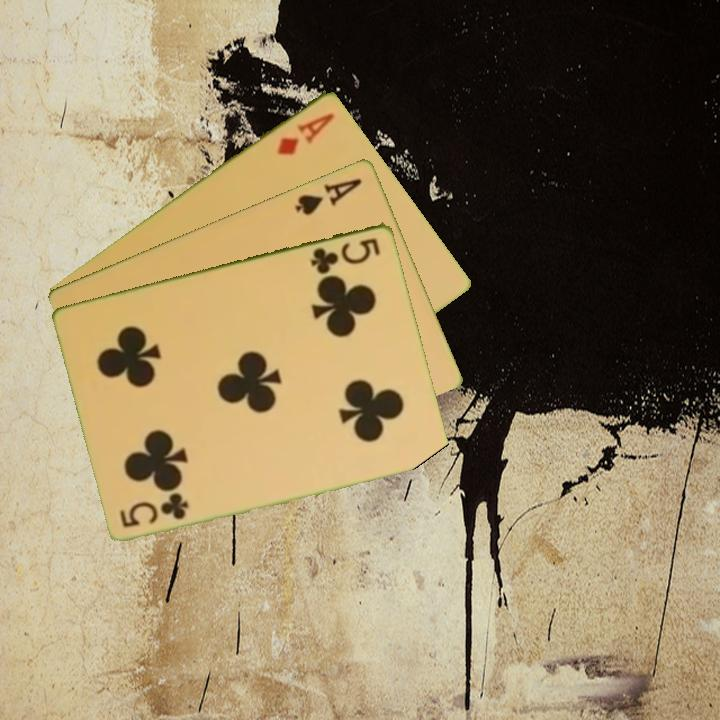5c: (307, 234, 384, 277), (116, 491, 192, 530)
Ad: (274, 108, 338, 158)
As: (291, 174, 366, 218)
